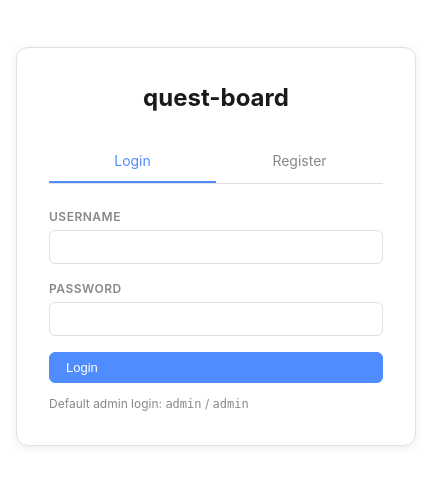
Test: AuthPage › shows error message on failed login
Type "bad" into the field at [216, 246], box [49, 230, 383, 264]
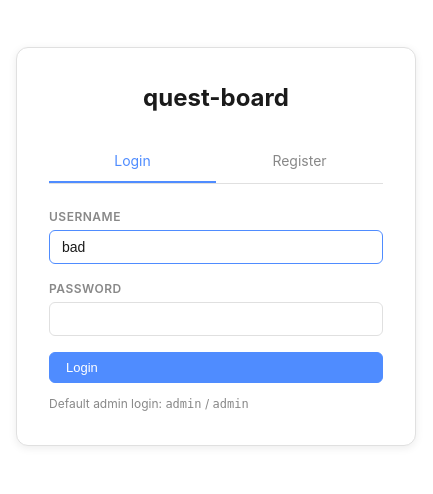
Type "creds" into the password field at [216, 318], box [49, 302, 383, 336]
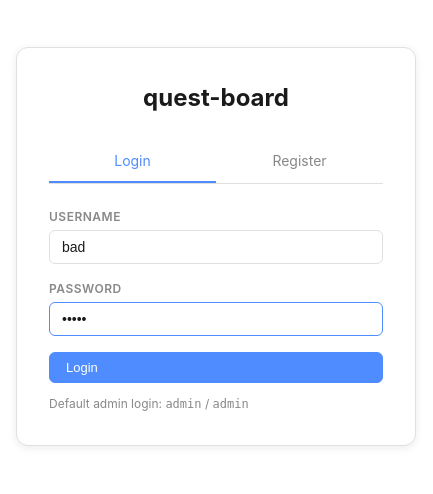
Click the button "Login" at [82, 367], box [49, 352, 383, 382]
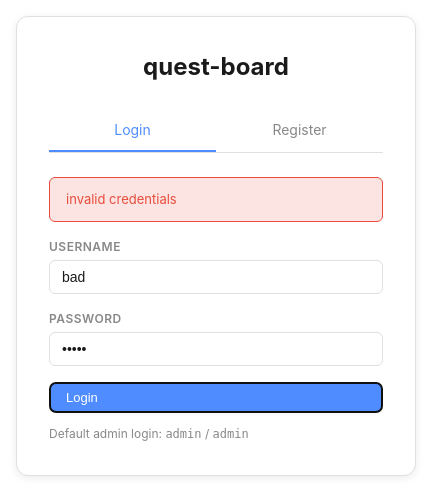
expect the text "invalid credentials" is shown: met, box [49, 177, 383, 222]
